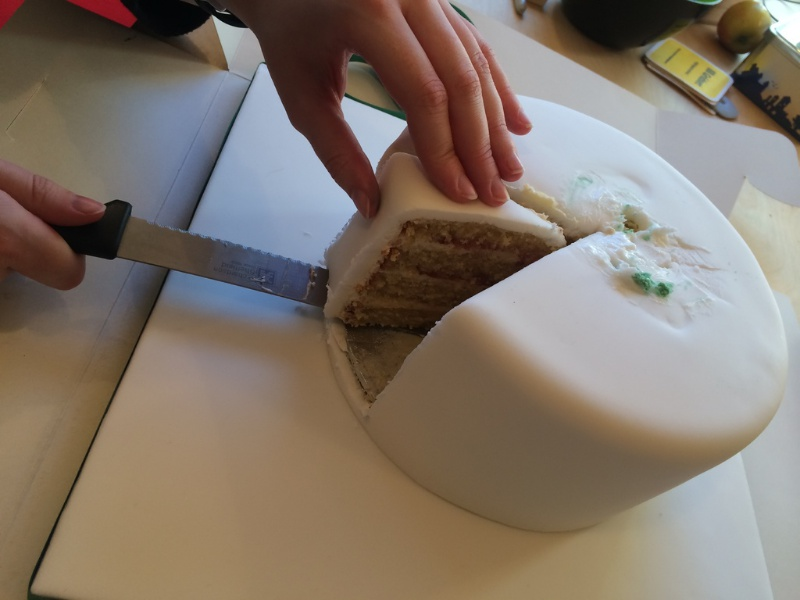knife: (17, 180, 372, 329)
